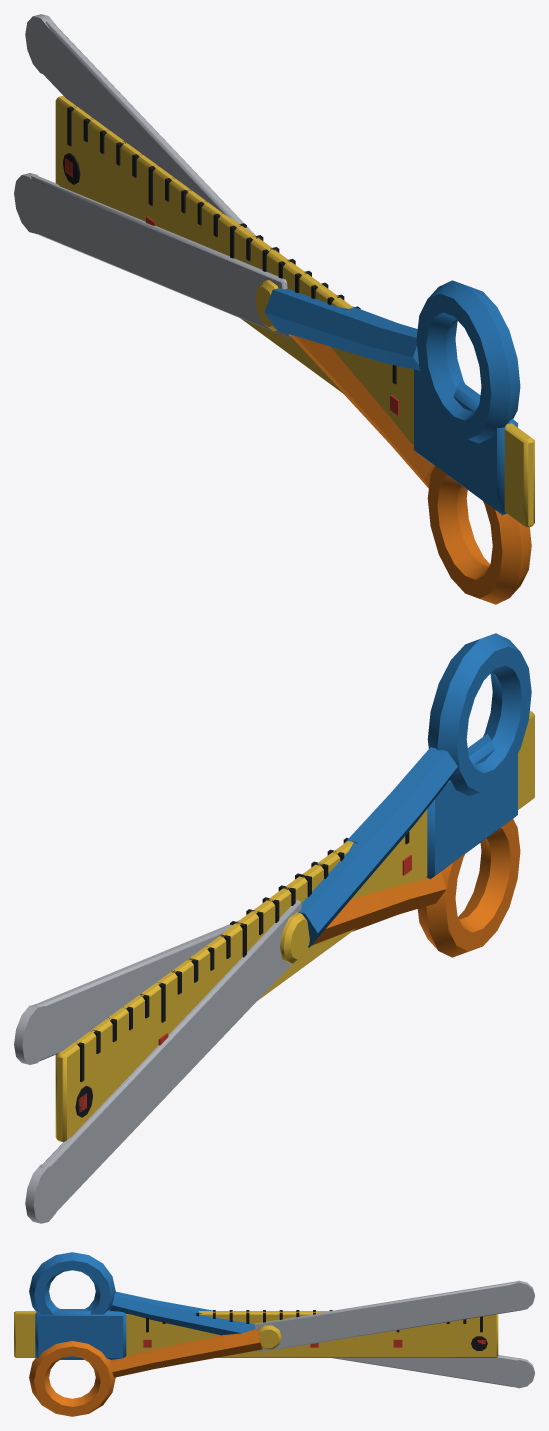
Rendered from 2026-11-28_pioche.glb.
3 views of the same model, one above another, from view 1: azimuth 30°, elevation 25°; view 2: azimuth 150°, elevation 25°; view 3: azimuth 270°, elevation 25° (orthographic). The views are drawn at different scales.
Parts seen in each view (by area): view 1: pioche_ciseaux_ronds, pioche_regle_geante; view 2: pioche_ciseaux_ronds, pioche_regle_geante; view 3: pioche_ciseaux_ronds, pioche_regle_geante.
Boxes of the visible parts, bbox=[...] form: pioche_ciseaux_ronds: bbox=[14, 14, 531, 604]; pioche_regle_geante: bbox=[55, 95, 534, 527]; pioche_ciseaux_ronds: bbox=[14, 633, 531, 1223]; pioche_regle_geante: bbox=[55, 711, 534, 1142]; pioche_ciseaux_ronds: bbox=[29, 1252, 534, 1416]; pioche_regle_geante: bbox=[14, 1309, 498, 1359].
Size of the model in its own units: 0.076 by 0.428 by 1.25.
